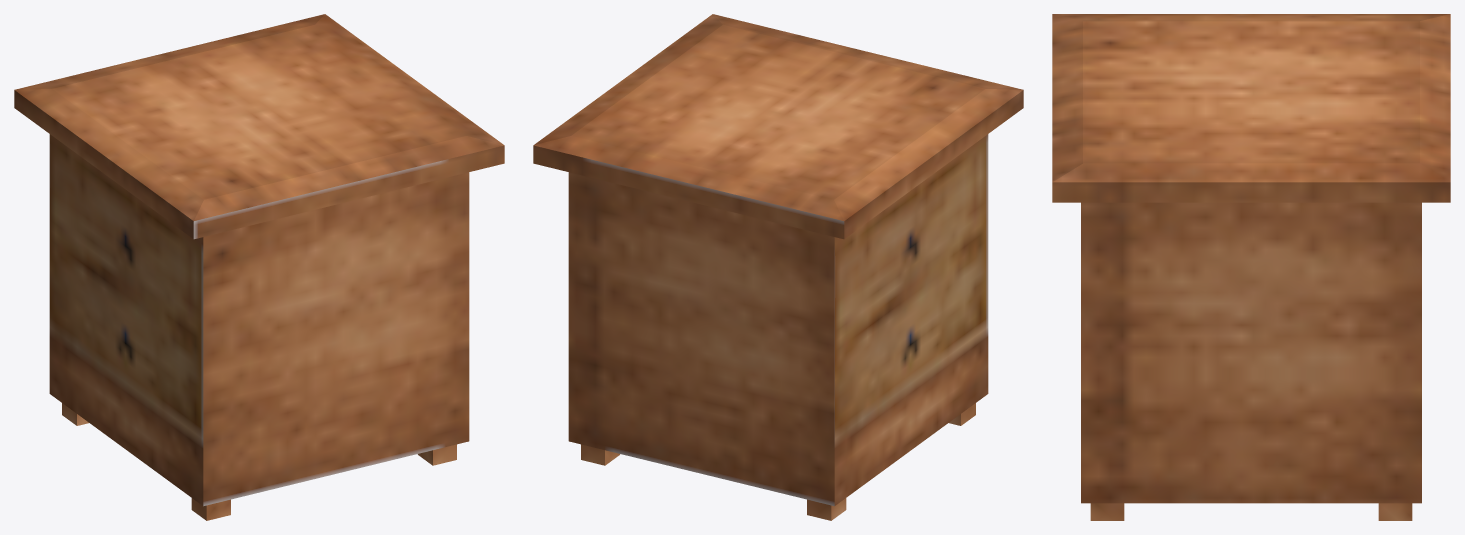
Rendered from nightstand.fbx.
3 views of the same model, side by side, from view 1: azimuth 30°, elevation 25°; view 2: azimuth 150°, elevation 25°; view 3: azimuth 270°, elevation 25° (orthographic). The views are drawn at different scales.
Parts seen in each view (by area): view 1: Cube; view 2: Cube; view 3: Cube.
Part boxes in pixels (x1=…): Cube: x1=14, y1=14, x2=504, y2=520; Cube: x1=533, y1=14, x2=1023, y2=520; Cube: x1=1052, y1=14, x2=1450, y2=520.
Bounding box in the file's own units: 234 × 234 × 234.
